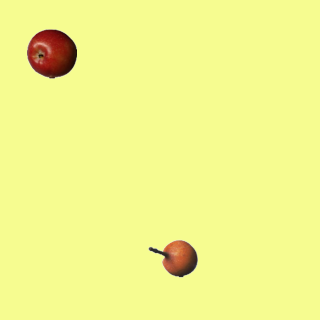Apple Braeburn: (26, 28, 76, 78)
Granadilla: (147, 233, 197, 283)
